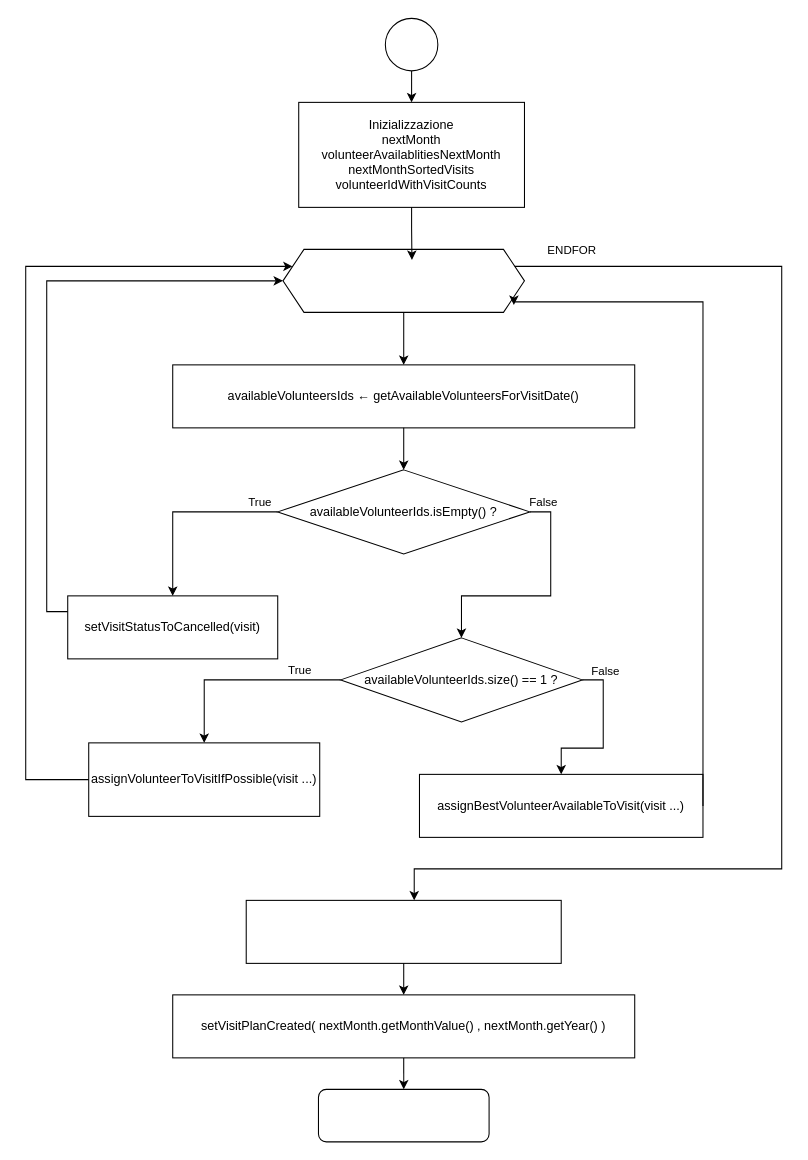
Some shapes in this 808 by 1160 pixel diagram are drawn without their labels. The box of each missing label's shape, as (x1, y1, x2, y2) in pixels:
END: (317, 1088, 489, 1142)
for Visit visit : nextMonthSortedVisits: (282, 248, 524, 312)
removeBlckedDatesFromSelectedMonth(nextMonth): (245, 899, 561, 963)
START: (384, 17, 438, 71)
